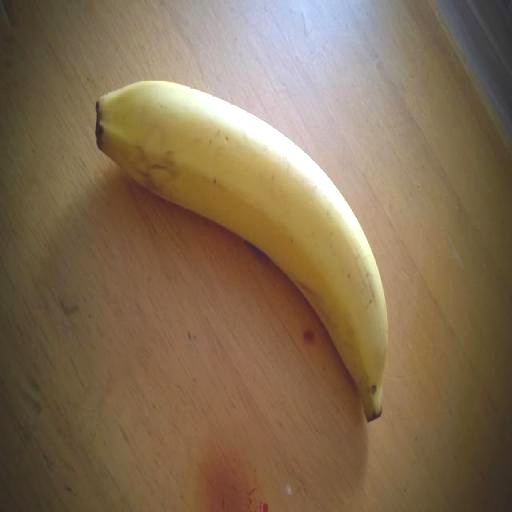fruit: (47, 68, 145, 215)
